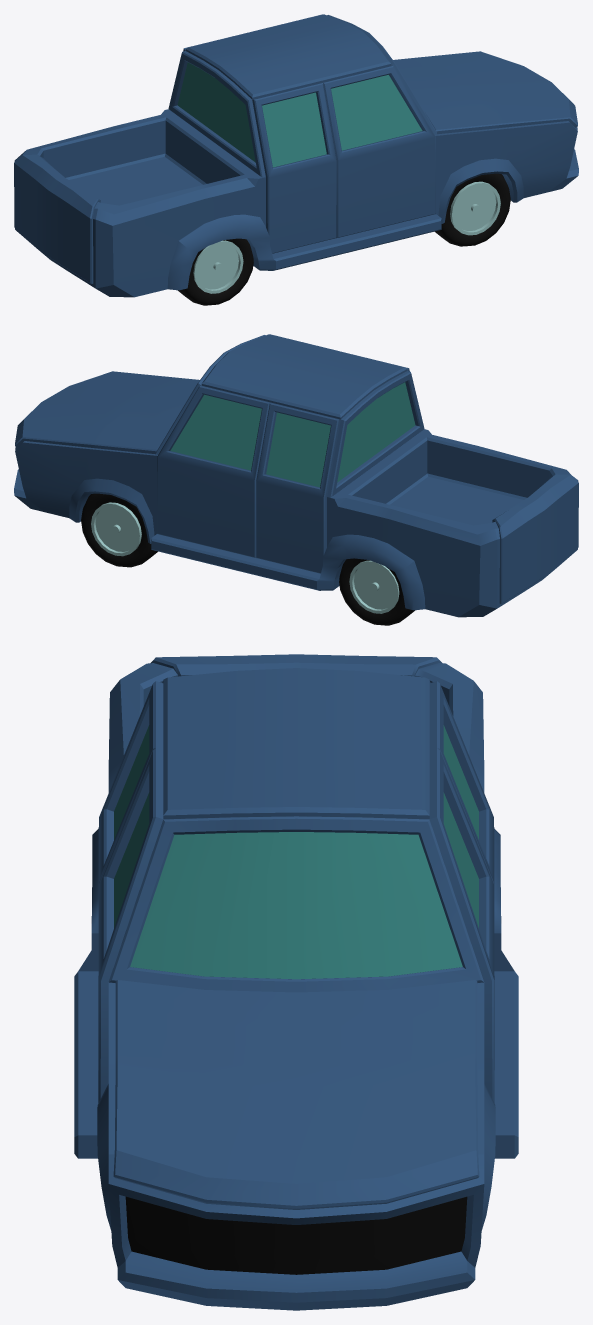
Rendered from truck.obj.
3 renders of one model, top to bottom at view 1: azimuth 30°, elevation 25°; view 2: azimuth 150°, elevation 25°; view 3: azimuth 270°, elevation 25°, orthographic. The views are drawn at different scales.
Parts seen in each view (by area): view 1: Hill:Hill:Hill:Hill:pCube2; view 2: Hill:Hill:Hill:Hill:pCube2; view 3: Hill:Hill:Hill:Hill:pCube2.
Boxes of the visible parts, left/top/right/bottom form: Hill:Hill:Hill:Hill:pCube2: left=14, top=14, right=578, bottom=305; Hill:Hill:Hill:Hill:pCube2: left=14, top=334, right=578, bottom=625; Hill:Hill:Hill:Hill:pCube2: left=74, top=654, right=518, bottom=1310.
Size of the model in its own units: 1706 by 646 by 643.
